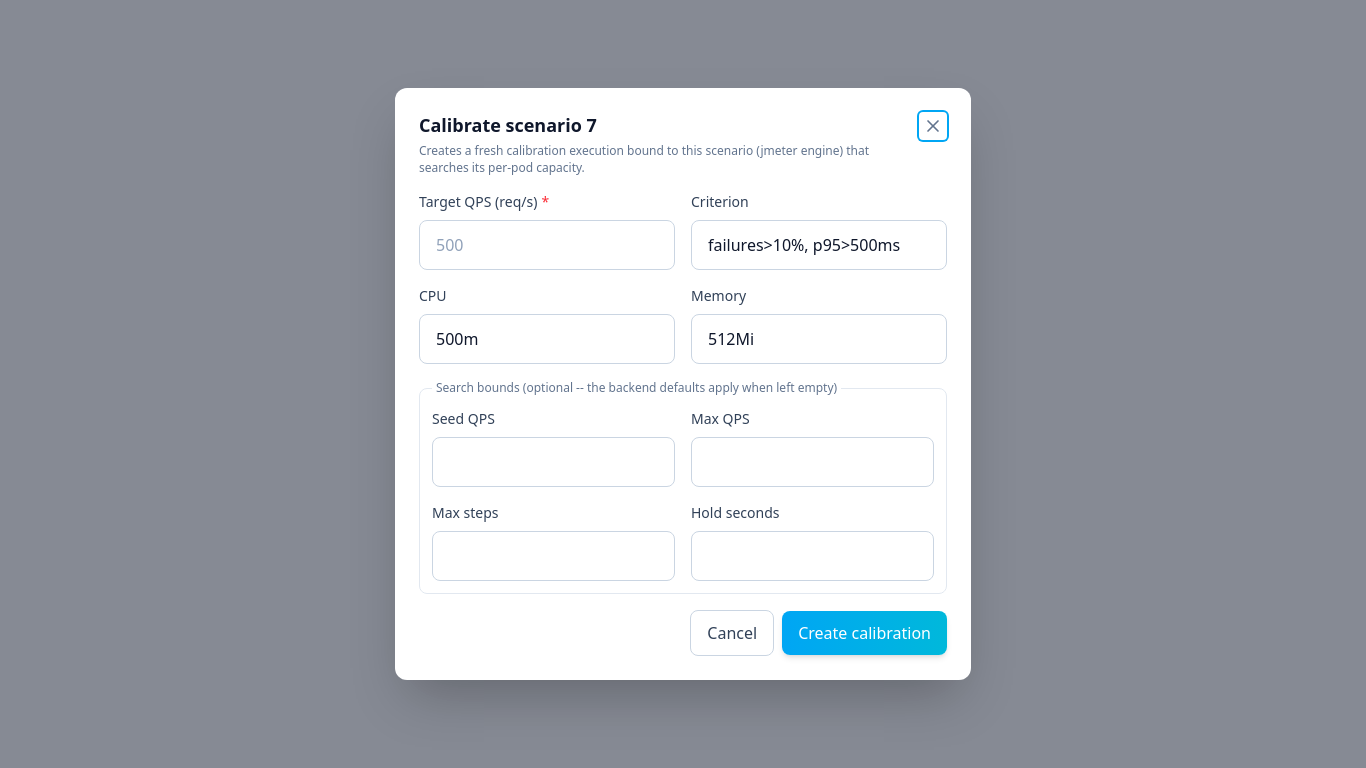
CalibrateScenarioModal › refuses to submit without a target QPS: no POST, no handoff
This screenshot has width=1366, height=768.
Click the button with test id "calibrate-submit".
click(865, 633)  # box [782,611,947,655]
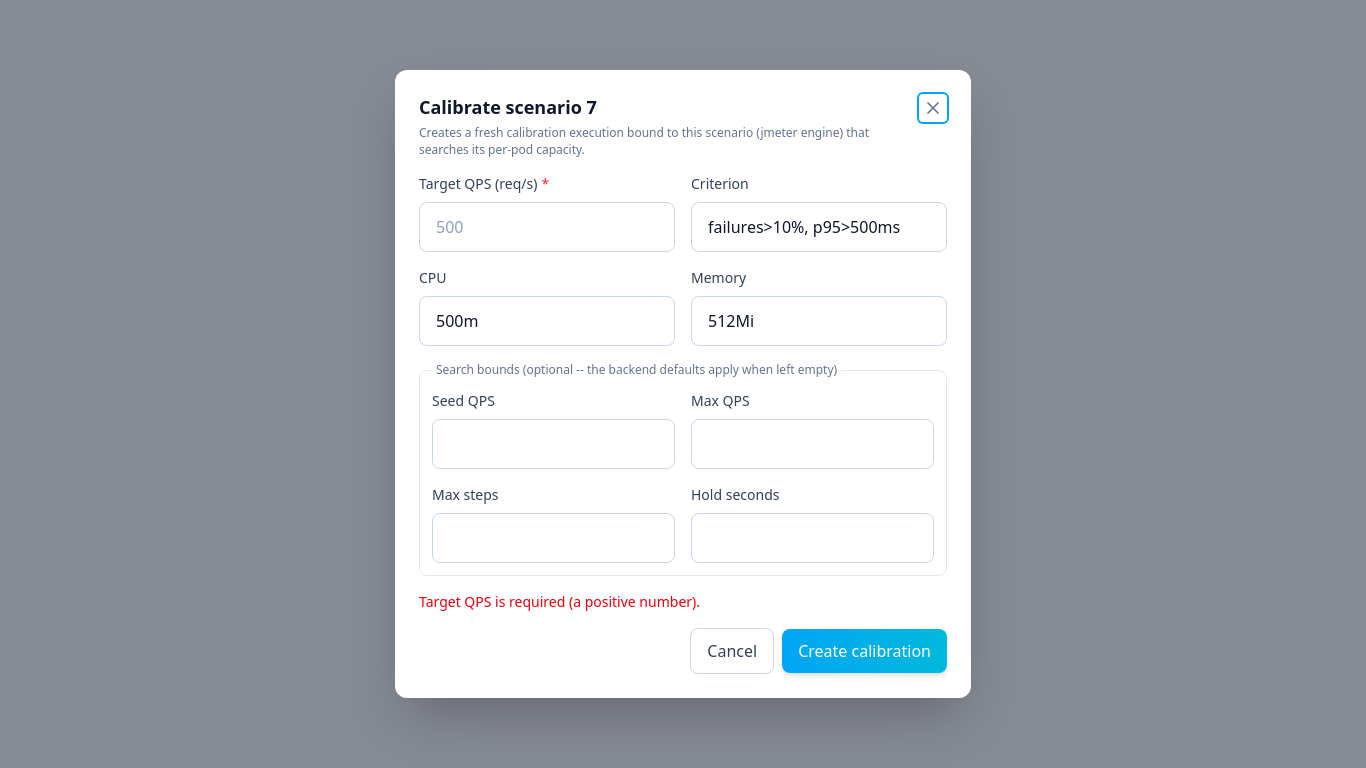
Result: the text "Target QPS is required" is shown at [419,592,700,611]
